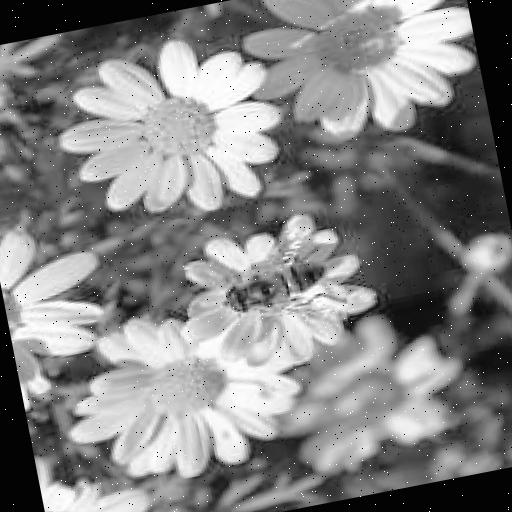daisy: (42, 22, 293, 236), (58, 294, 303, 491), (168, 210, 376, 382), (280, 312, 462, 474), (0, 218, 125, 409), (35, 442, 155, 512)
